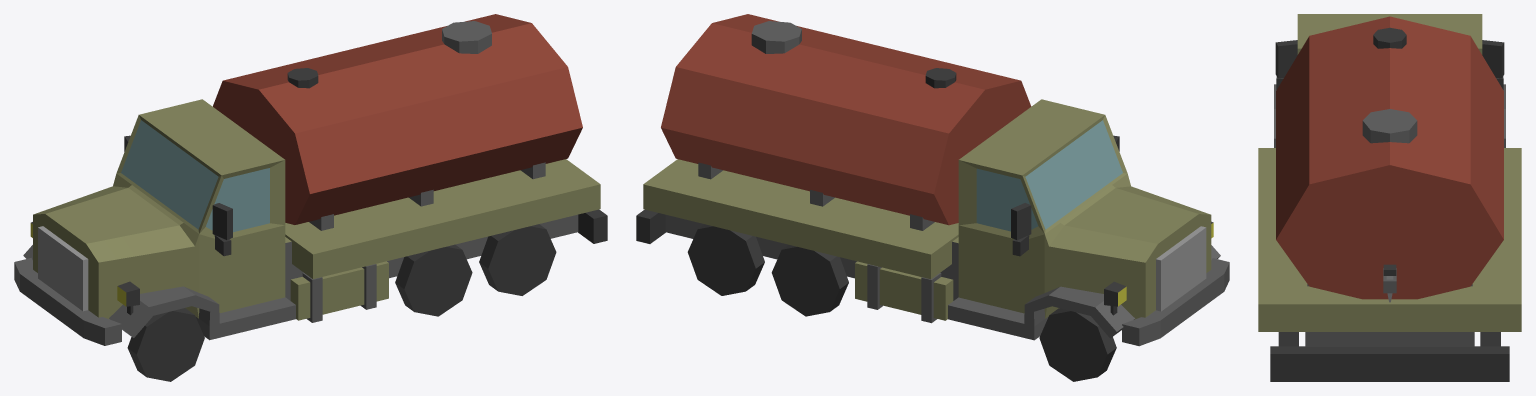
Rendered from Truck.glb.
3 renders of one model, left to right at view 1: azimuth 30°, elevation 25°; view 2: azimuth 150°, elevation 25°; view 3: azimuth 270°, elevation 25°, orthographic. The views are drawn at different scales.
Parts seen in each view (by area): view 1: Cube000; view 2: Cube000; view 3: Cube000.
Part boxes in pixels (left/top/right/bottom): Cube000: left=14, top=14, right=607, bottom=381; Cube000: left=636, top=14, right=1229, bottom=381; Cube000: left=1258, top=14, right=1521, bottom=381.
Bounding box in the file's own units: 10.89 × 4.74 × 4.42.
